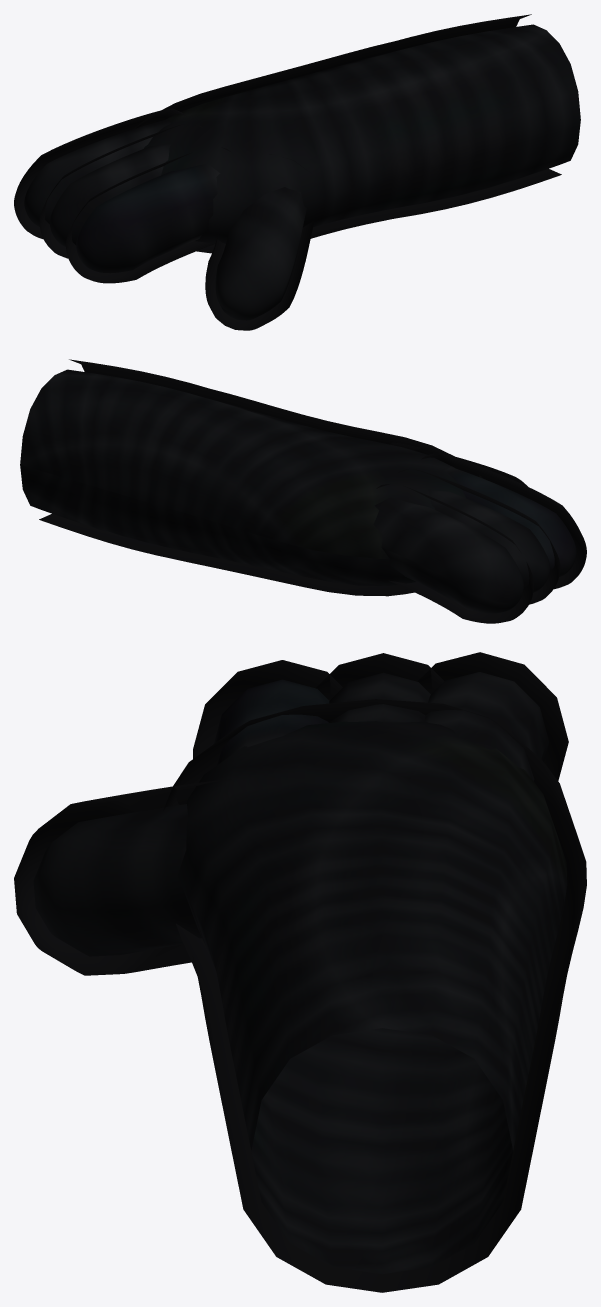
File: brazo1.obj
3 views of the same model, one above another, from view 1: azimuth 30°, elevation 25°; view 2: azimuth 150°, elevation 25°; view 3: azimuth 270°, elevation 25° (orthographic). The views are drawn at different scales.
Parts seen in each view (by area): view 1: Object002; view 2: Object002; view 3: Object002.
Boxes of the visible parts, bbox=[...] form: Object002: bbox=[14, 14, 580, 330]; Object002: bbox=[20, 359, 586, 623]; Object002: bbox=[14, 652, 586, 1292].
Size of the model in its own units: 8.64 by 2.68 by 4.47.
